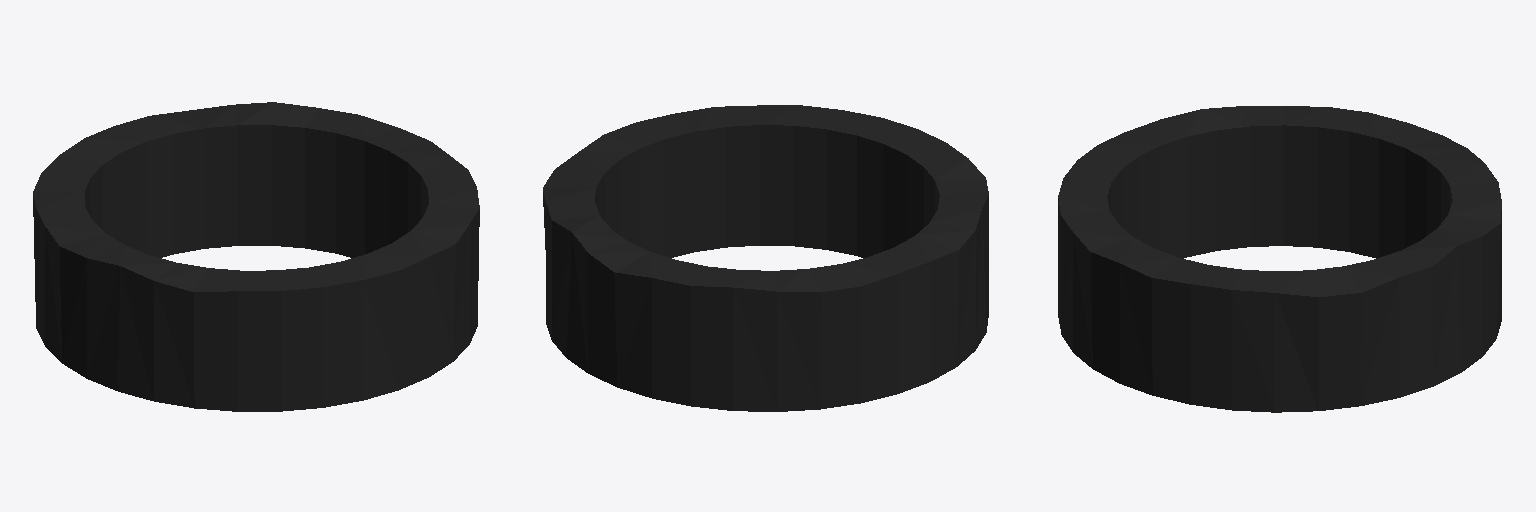
The model's file is Duct_Tape.obj.
3 views of the same model, side by side, from view 1: azimuth 30°, elevation 25°; view 2: azimuth 150°, elevation 25°; view 3: azimuth 270°, elevation 25° (orthographic).
Visible parts, largest first — view 1: Object.1; view 2: Object.1; view 3: Object.1.
Boxes of the visible parts, x1,y1,x2,y2 form: Object.1: [33, 102, 479, 411]; Object.1: [543, 105, 988, 411]; Object.1: [1058, 106, 1501, 412].
Bounding box in the file's own units: 78.15 × 24.12 × 77.34.